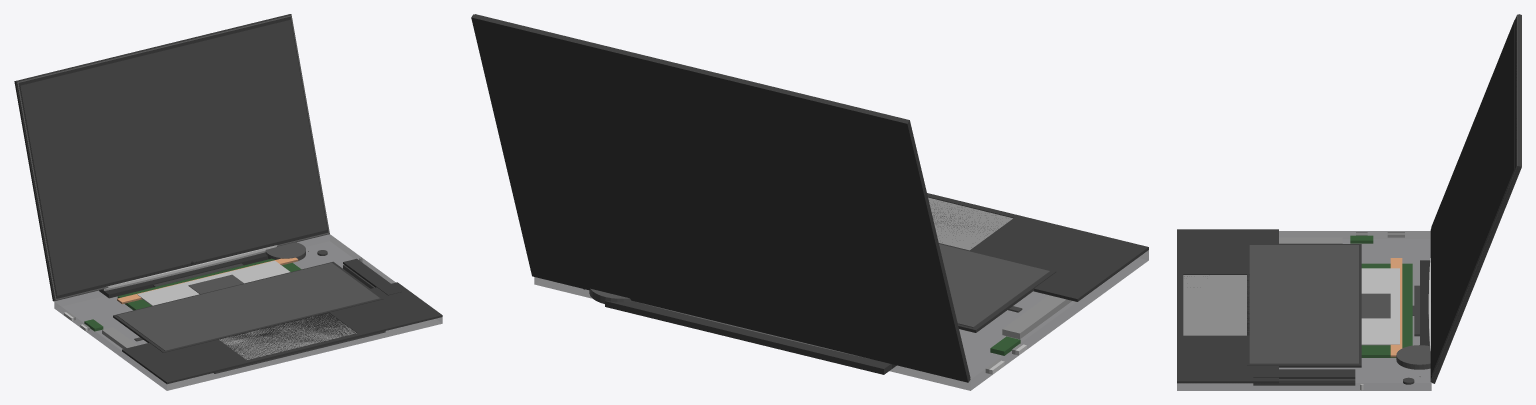
Rendered from MacBook_Assembly.glb.
3 views of the same model, side by side, from view 1: azimuth 30°, elevation 25°; view 2: azimuth 150°, elevation 25°; view 3: azimuth 270°, elevation 25° (orthographic). The views are drawn at different scales.
Visible parts, largest first — view 1: 5_LCDPanel, 13_IndividualKeycaps, 19_PalmRests, 2_BottomAluminumChassis, 17_TrackpadGlass, 18_TrackpadMechanics, 6_DisplayBezels, 4_DisplayGlass, 48_InternalShields, 7_RubberGasket, 12_KeyboardFrame, 34_VentChannels (+9 smaller); view 2: 1_TopAluminumLid, 19_PalmRests, 2_BottomAluminumChassis, 13_IndividualKeycaps, 34_VentChannels, 18_TrackpadMechanics, 17_TrackpadGlass, 22_LeftSpeaker, 12_KeyboardFrame, 3_DisplayHousing; view 3: 13_IndividualKeycaps, 5_LCDPanel, 2_BottomAluminumChassis, 19_PalmRests, 17_TrackpadGlass, 18_TrackpadMechanics, 48_InternalShields, 1_TopAluminumLid, 26_LogicBoard, 12_KeyboardFrame, 20_SpeakerGrills, 34_VentChannels (+9 smaller).
Boxes of the visible parts, <box> form: 5_LCDPanel: <box>20,19,327,295</box>; 13_IndividualKeycaps: <box>117,262,380,350</box>; 19_PalmRests: <box>122,282,442,384</box>; 2_BottomAluminumChassis: <box>54,234,442,390</box>; 17_TrackpadGlass: <box>219,312,356,359</box>; 18_TrackpadMechanics: <box>219,314,356,359</box>; 6_DisplayBezels: <box>18,16,328,298</box>; 4_DisplayGlass: <box>19,17,327,298</box>; 48_InternalShields: <box>137,260,289,305</box>; 7_RubberGasket: <box>17,15,329,300</box>; 12_KeyboardFrame: <box>113,261,383,352</box>; 34_VentChannels: <box>99,252,268,298</box>; 1_TopAluminumLid: <box>471,14,970,382</box>; 19_PalmRests: <box>927,193,1148,301</box>; 2_BottomAluminumChassis: <box>534,250,1148,390</box>; 13_IndividualKeycaps: <box>939,244,1049,327</box>; 34_VentChannels: <box>605,300,896,374</box>; 18_TrackpadMechanics: <box>928,197,1012,250</box>; 17_TrackpadGlass: <box>928,197,1012,249</box>; 22_LeftSpeaker: <box>1002,295,1071,339</box>; 12_KeyboardFrame: <box>939,243,1055,332</box>; 3_DisplayHousing: <box>475,14,970,377</box>; 13_IndividualKeycaps: <box>1249,245,1358,363</box>; 5_LCDPanel: <box>1431,20,1515,375</box>; 2_BottomAluminumChassis: <box>1177,231,1431,390</box>; 19_PalmRests: <box>1177,229,1278,383</box>; 17_TrackpadGlass: <box>1183,274,1248,335</box>; 18_TrackpadMechanics: <box>1183,275,1246,335</box>; 48_InternalShields: <box>1361,268,1399,345</box>; 1_TopAluminumLid: <box>1431,14,1521,383</box>; 26_LogicBoard: <box>1361,263,1412,357</box>; 12_KeyboardFrame: <box>1247,244,1361,367</box>; 20_SpeakerGrills: <box>1253,369,1355,378</box>; 34_VentChannels: <box>1420,260,1430,345</box>.
Bounding box in the file's own units: 0.3166 × 0.2166 × 0.2997.
